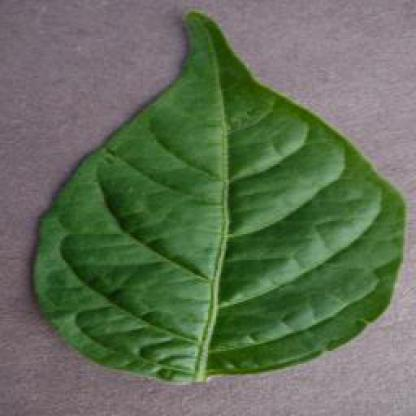good leaf: (3, 0, 414, 382)
